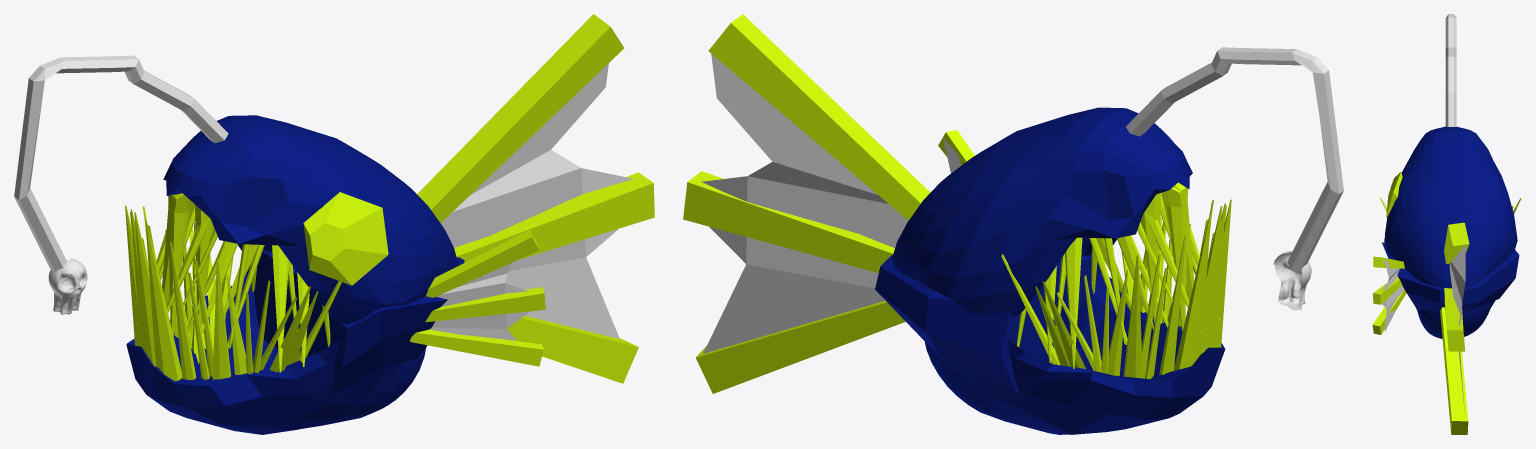
Rendered from lampfish.fbx.
The picture shows the model from 3 angles, left to right: view 1: azimuth 30°, elevation 25°; view 2: azimuth 150°, elevation 25°; view 3: azimuth 270°, elevation 25°; orthographic projection. The views are drawn at different scales.
Visible parts, largest first — view 1: Cube.006, Cube.003, Plane, Cube.007, Cylinder.001, Cylinder.002, Cube.002, Cylinder.003, Cube.005, Cylinder, Plane.002, Sphere; view 2: Cube.006, Cube.003, Plane, Cube.007, Cylinder.001, Cube.002, Cylinder.002, Cylinder.003, Sphere, Cube.005; view 3: Cube.006, Cube.003, Cube.002, Cylinder.003, Cube.007, Cube.005, Plane, Plane.002, Cylinder.
Boxes of the visible parts, box(x1,y1,x2,y2) form: Cube.006: box(163, 115, 458, 324); Cube.003: box(417, 14, 654, 383); Plane: box(441, 63, 633, 338); Cube.007: box(126, 273, 426, 434); Cylinder.001: box(125, 205, 341, 381); Cylinder.002: box(136, 193, 330, 372); Cube.002: box(246, 251, 464, 395); Cylinder.003: box(14, 55, 228, 271); Cube.005: box(410, 230, 545, 366); Cylinder: box(303, 192, 388, 285); Plane.002: box(429, 262, 529, 340); Sphere: box(48, 258, 87, 314); Cube.006: box(892, 107, 1192, 316); Cube.003: box(683, 14, 930, 393); Plane: box(701, 53, 908, 353); Cube.007: box(924, 272, 1225, 434); Cylinder.001: box(1001, 199, 1231, 379); Cube.002: box(875, 255, 1100, 392); Cylinder.002: box(1016, 182, 1219, 369); Cylinder.003: box(1126, 47, 1343, 274); Sphere: box(1273, 251, 1311, 310); Cube.005: box(938, 130, 974, 165); Cube.006: box(1384, 126, 1517, 288); Cube.003: box(1440, 222, 1469, 434); Cube.002: box(1382, 242, 1519, 312); Cylinder.003: box(1445, 14, 1456, 126); Cube.007: box(1416, 300, 1495, 338); Cube.005: box(1372, 256, 1406, 334); Plane: box(1449, 245, 1465, 413); Plane.002: box(1381, 260, 1404, 331); Cylinder: box(1386, 172, 1402, 217).
Bounding box in the file's own units: 218 × 152 × 78.
